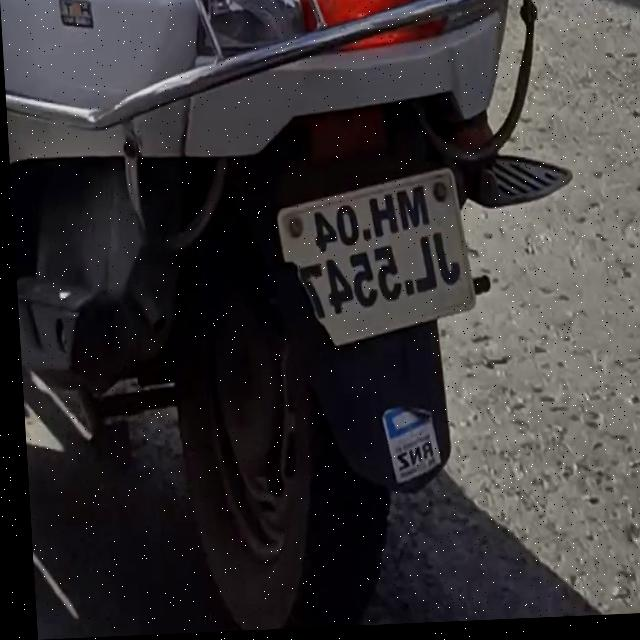plate: (272, 168, 474, 379)
